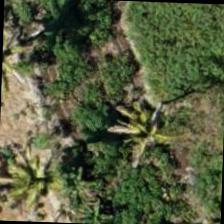Kelapa_Sawit: (104, 91, 196, 184), (33, 140, 127, 224), (0, 132, 82, 223), (46, 170, 140, 223)
